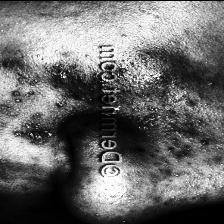Non-Cancerous Skin Condition: (125, 41, 224, 173), (0, 24, 96, 150), (23, 198, 224, 224)
